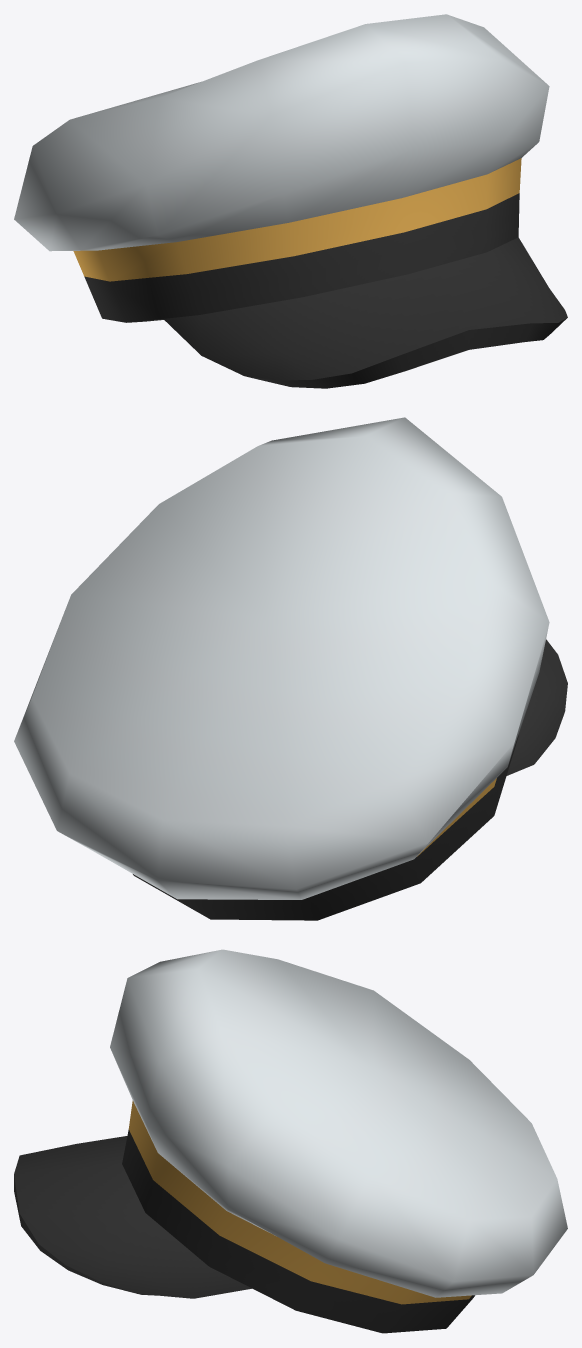
File: Headgear_29.fbx
The picture shows the model from 3 angles, top to bottom: view 1: azimuth 30°, elevation 25°; view 2: azimuth 150°, elevation 25°; view 3: azimuth 270°, elevation 25°; orthographic projection. The views are drawn at different scales.
Visible parts, largest first — view 1: Headgear_29; view 2: Headgear_29; view 3: Headgear_29.
Boxes of the visible parts, x1=… form: Headgear_29: x1=14, y1=14, x2=567, y2=388; Headgear_29: x1=14, y1=417, x2=567, y2=920; Headgear_29: x1=14, y1=949, x2=567, y2=1333.
Size of the model in its own units: 98.85 by 76.32 by 117.
